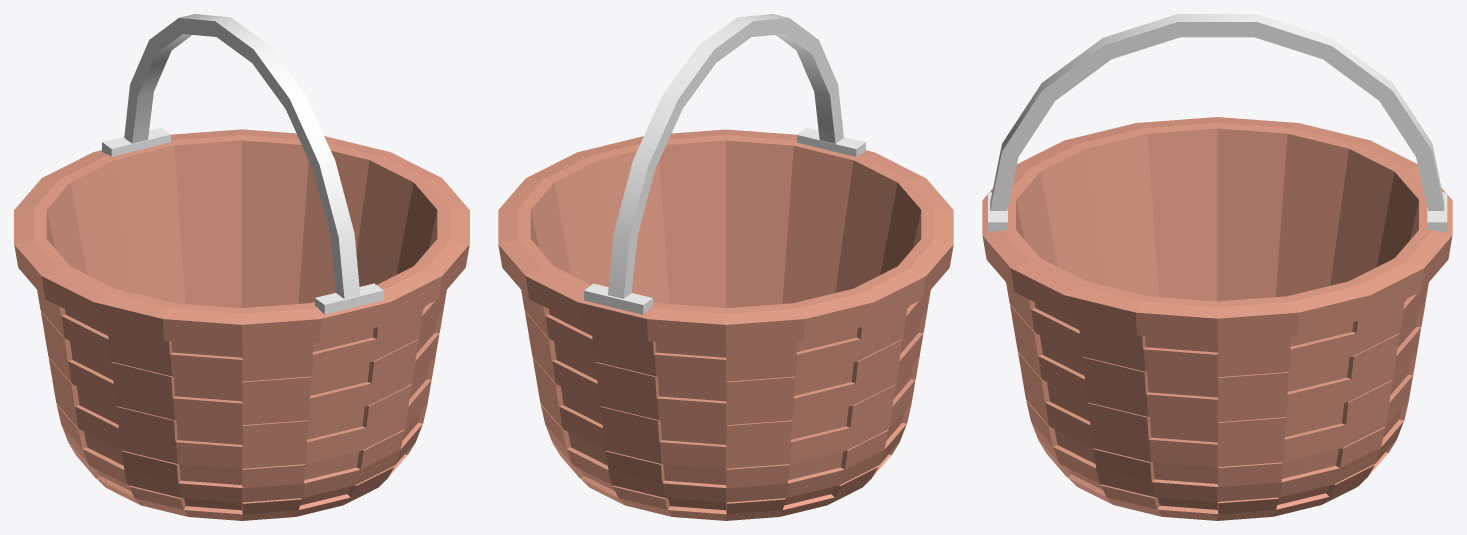
The picture shows the model from 3 angles, left to right: view 1: azimuth 30°, elevation 25°; view 2: azimuth 150°, elevation 25°; view 3: azimuth 270°, elevation 25°; orthographic projection. The views are drawn at different scales.
Visible parts, largest first — view 1: Cylinder001, Cylinder002, Box001, Box002; view 2: Cylinder001, Cylinder002, Box002, Box001; view 3: Cylinder001, Cylinder002.
Part boxes in pixels (x1,y1,x2,y2): Cylinder001: [14, 129, 469, 520]; Cylinder002: [124, 14, 360, 298]; Box001: [315, 283, 383, 314]; Box002: [102, 127, 170, 156]; Cylinder001: [498, 129, 953, 520]; Cylinder002: [608, 14, 843, 298]; Box002: [584, 283, 652, 314]; Box001: [797, 128, 865, 156]; Cylinder001: [982, 117, 1452, 520]; Cylinder002: [990, 14, 1444, 210].
Bounding box in the file's own units: 112477 × 116129 × 110768.
